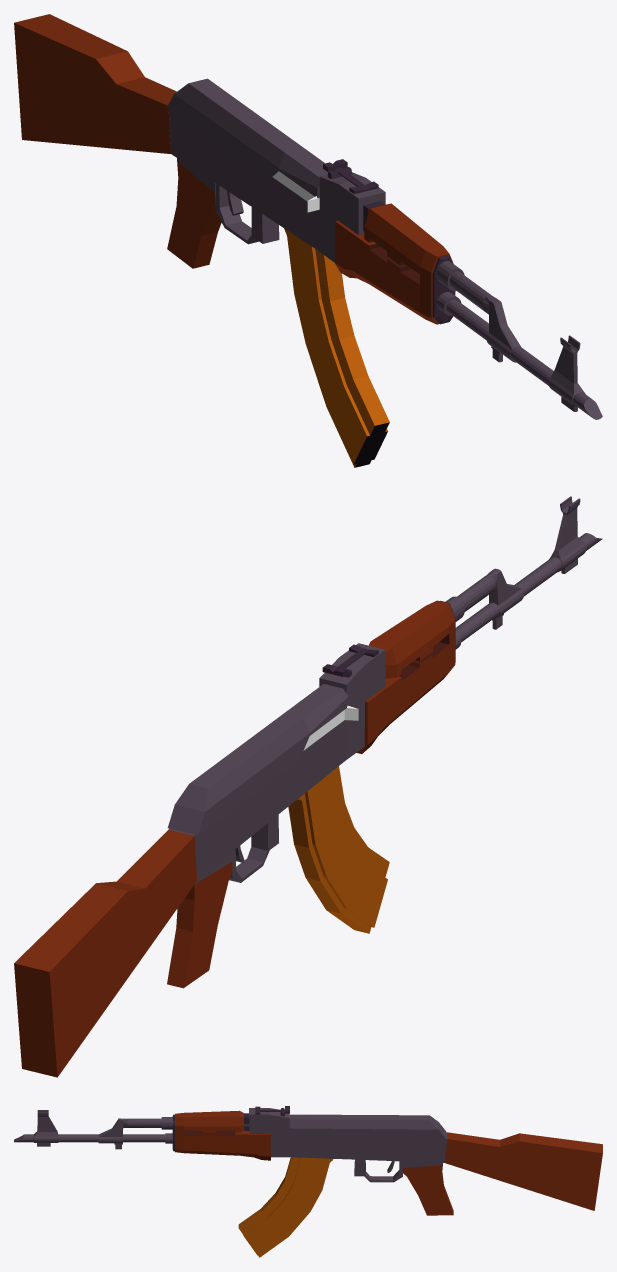
File: Assault_Rifle_01.fbx
3 views of the same model, one above another, from view 1: azimuth 30°, elevation 25°; view 2: azimuth 150°, elevation 25°; view 3: azimuth 270°, elevation 25° (orthographic). The views are drawn at different scales.
Parts seen in each view (by area): view 1: Assault_Rifle_01, Assault_Rifle_01_Butstock, Assault_Rifle_01_Mag, Assault_Rifle_01_Frontgrip, Assault_Rifle_01_Cover, Assault_Rifle_01_Handgrip, Assault_Rifle_01_Iron Sight; view 2: Assault_Rifle_01_Butstock, Assault_Rifle_01, Assault_Rifle_01_Mag, Assault_Rifle_01_Cover, Assault_Rifle_01_Frontgrip, Assault_Rifle_01_Handgrip; view 3: Assault_Rifle_01, Assault_Rifle_01_Butstock, Assault_Rifle_01_Mag, Assault_Rifle_01_Frontgrip, Assault_Rifle_01_Cover, Assault_Rifle_01_Handgrip.
Boxes of the visible parts, x1,y1,x2,y2 form: Assault_Rifle_01: (168,108,602,419); Assault_Rifle_01_Butstock: (14,14,176,153); Assault_Rifle_01_Mag: (284,228,389,467); Assault_Rifle_01_Frontgrip: (335,201,455,324); Assault_Rifle_01_Cover: (167,78,328,198); Assault_Rifle_01_Handgrip: (167,158,221,268); Assault_Rifle_01_Iron Sight: (323,159,378,193); Assault_Rifle_01_Butstock: (14,829,197,1077); Assault_Rifle_01: (168,496,602,882); Assault_Rifle_01_Mag: (288,766,389,933); Assault_Rifle_01_Cover: (167,684,348,835); Assault_Rifle_01_Frontgrip: (356,600,455,753); Assault_Rifle_01_Handgrip: (167,852,232,988); Assault_Rifle_01: (14,1108,447,1182); Assault_Rifle_01_Butstock: (444,1132,602,1210); Assault_Rifle_01_Mag: (238,1157,333,1257); Assault_Rifle_01_Frontgrip: (172,1110,270,1160); Assault_Rifle_01_Cover: (289,1114,446,1139); Assault_Rifle_01_Handgrip: (403,1161,453,1215).
Size of the model in its own units: 3.85 by 24.06 by 87.21.
